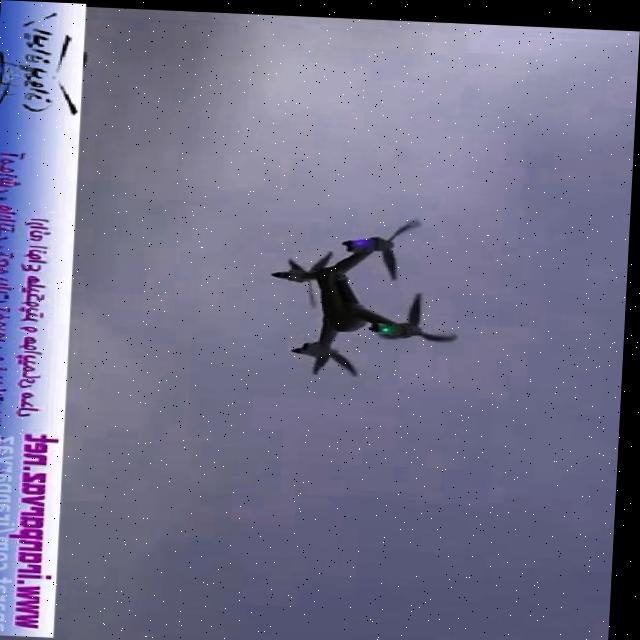drone: (266, 206, 471, 380)
